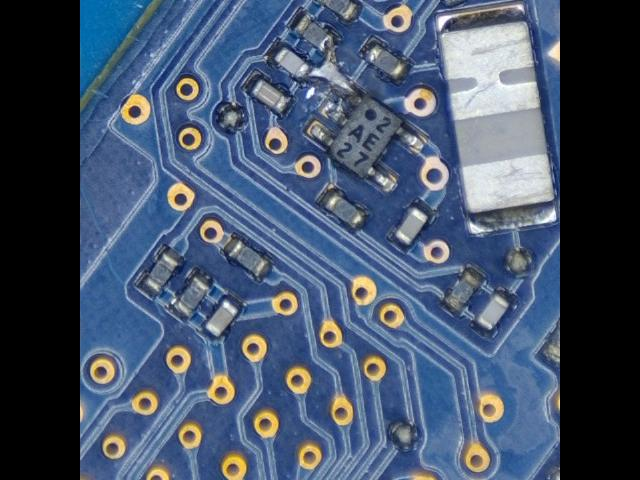Short_circuit: (296, 35, 357, 119)
